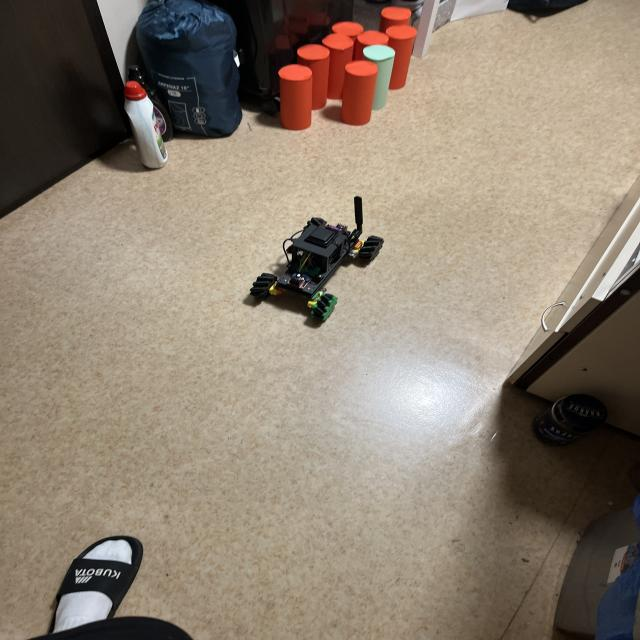robot: (251, 196, 384, 320)
